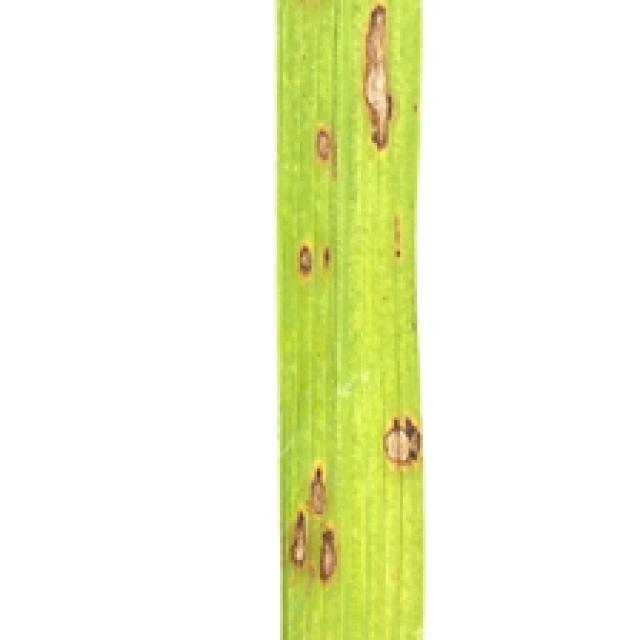Rice___Rice_Blast: (279, 0, 425, 637)
